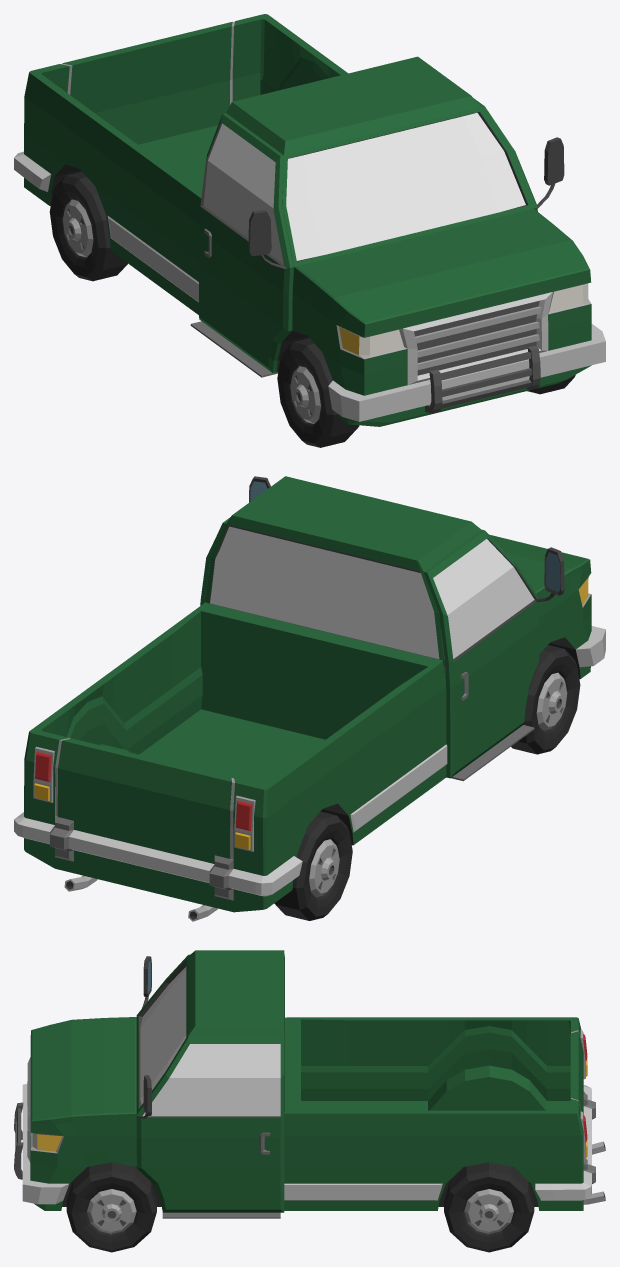
Rendered from Van_01.fbx.
3 views of the same model, one above another, from view 1: azimuth 30°, elevation 25°; view 2: azimuth 150°, elevation 25°; view 3: azimuth 270°, elevation 25° (orthographic). The views are drawn at different scales.
Parts seen in each view (by area): view 1: Van_01, Van_01_DoorR, Wheel_Big_RearR.001, Wheel_Big_FrontR.001, Van_01_DoorL; view 2: Van_01, Van_01_DoorR, Wheel_Big_RearR.001, Wheel_Big_FrontR.001, Van_01_DoorL; view 3: Van_01, Van_01_DoorL, Wheel_Big_RearL.001, Wheel_Big_FrontL.001, Van_01_DoorR.
Boxes of the visible parts, x1,y1,x2,y2 form: Van_01: (14,14,605,426); Van_01_DoorR: (199,113,293,372); Wheel_Big_RearR.001: (49,171,127,281); Wheel_Big_FrontR.001: (277,338,359,447); Van_01_DoorL: (474,98,564,211); Van_01: (14,476,605,921); Van_01_DoorR: (424,529,564,778); Wheel_Big_RearR.001: (274,811,352,920); Wheel_Big_FrontR.001: (511,645,580,754); Van_01_DoorL: (200,476,270,605); Van_01: (14,950,605,1218); Van_01_DoorL: (136,1036,284,1212); Wheel_Big_RearL.001: (444,1162,534,1252); Wheel_Big_FrontL.001: (66,1162,156,1252); Van_01_DoorR: (136,954,189,1016).
Size of the model in its own units: 336 by 265 by 660.
